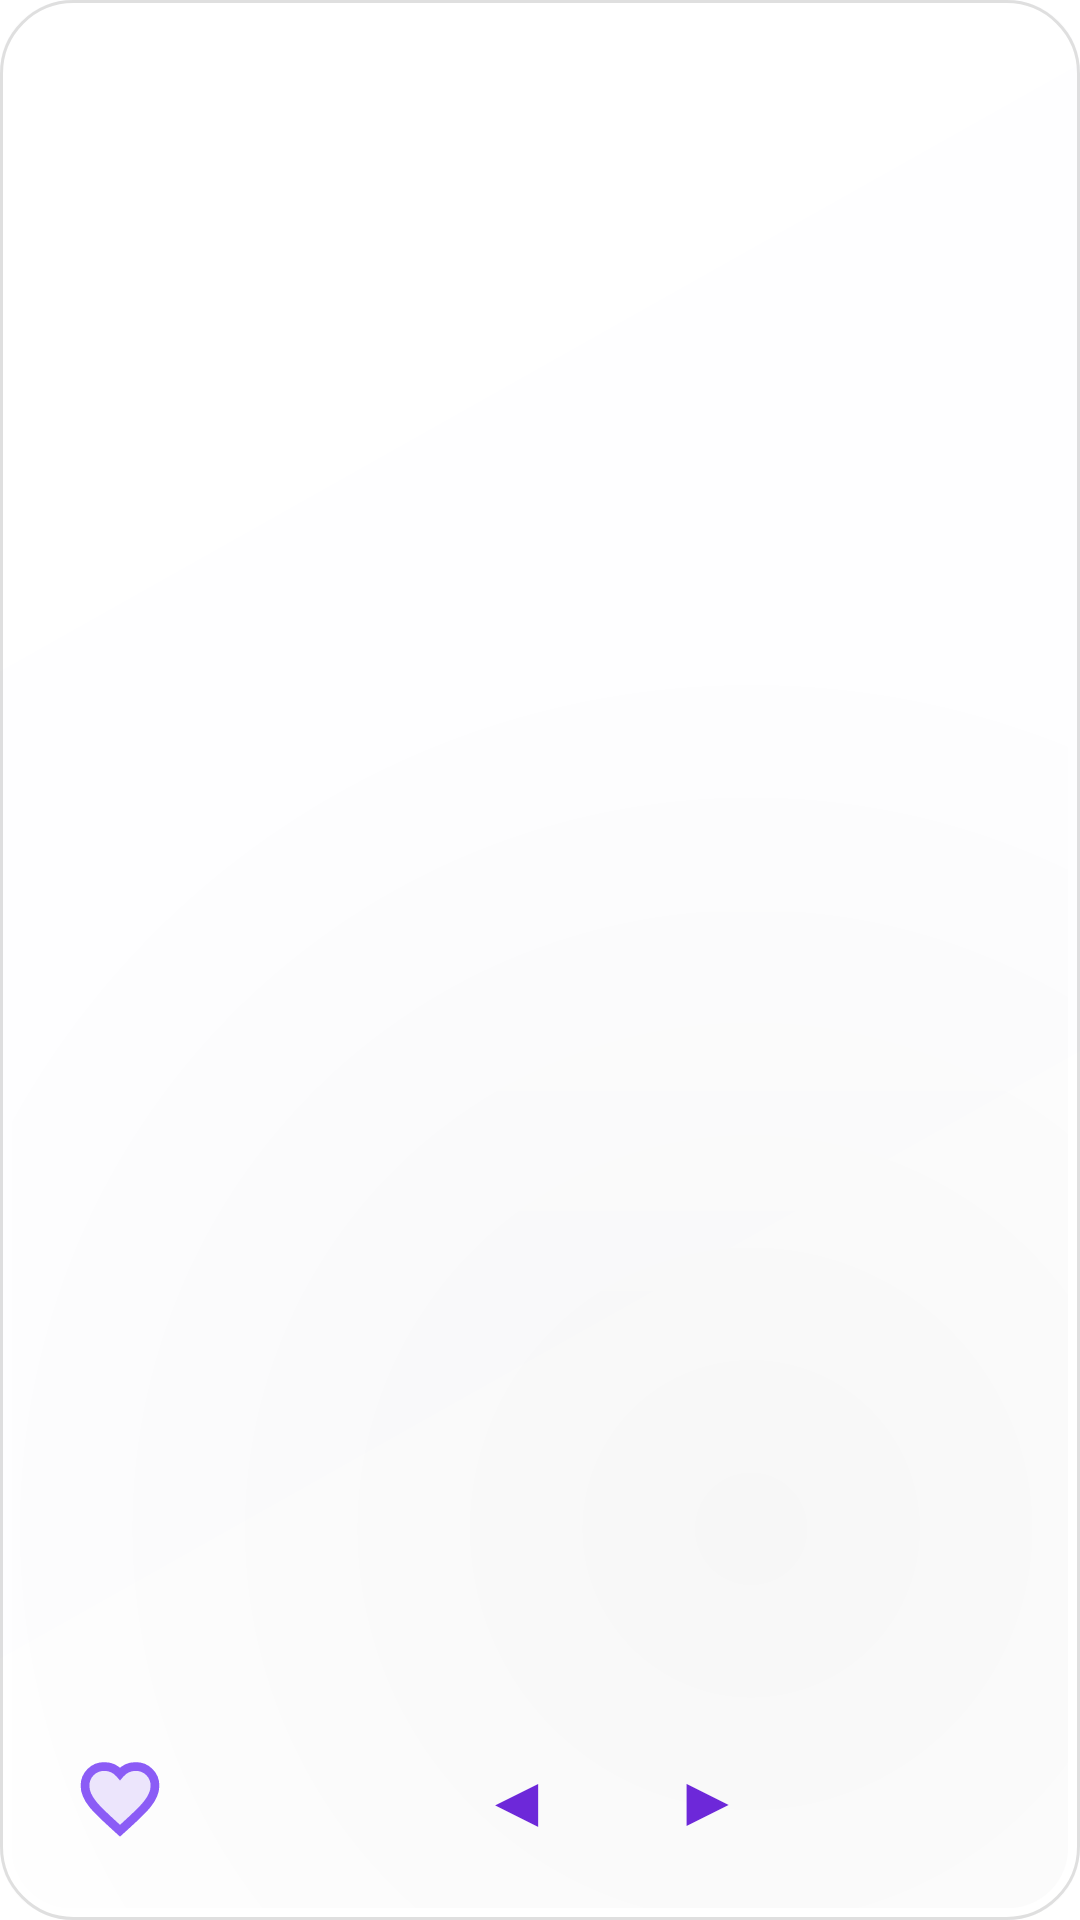

Icons on this 1080*1920 Android screen, each with its box as bbox=[x1, y1, x2, y2]:
Save to favorites: bbox=[80, 1762, 160, 1837]
